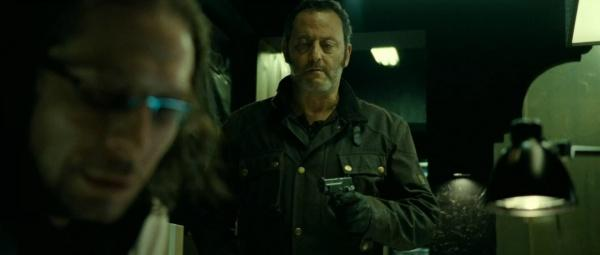Gun: (318, 175, 355, 199)
